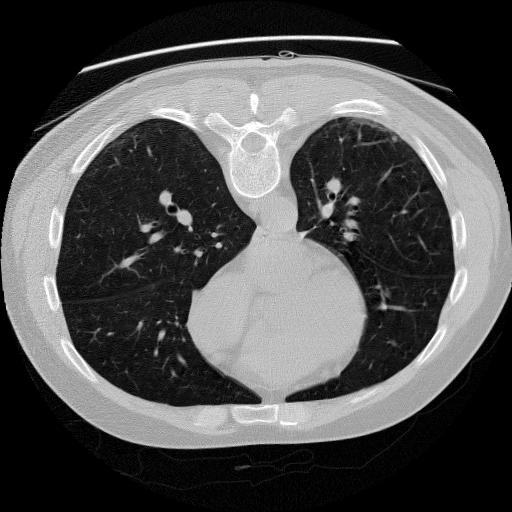nodule: (388, 135, 399, 146)
